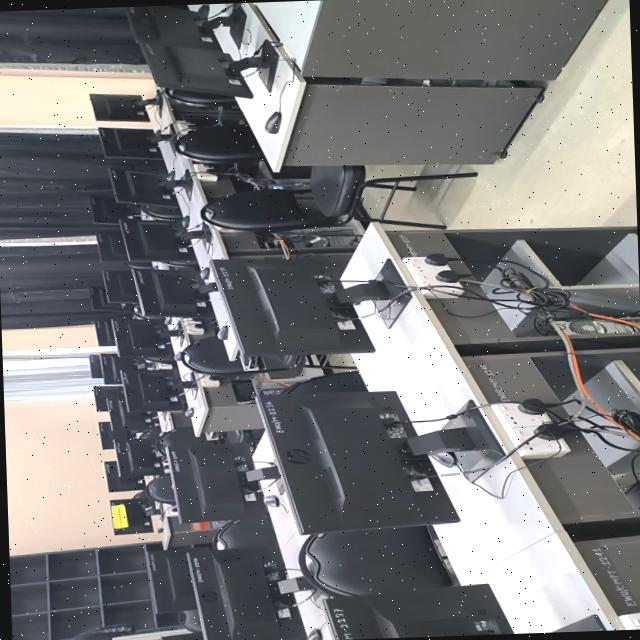Chair: (199, 165, 475, 233), (298, 526, 454, 596), (168, 124, 263, 164), (212, 514, 279, 562), (157, 426, 212, 475), (178, 336, 242, 378), (281, 371, 365, 394), (162, 88, 234, 107), (145, 473, 174, 505), (139, 204, 181, 220), (279, 166, 308, 178)
Cpu: (550, 318, 639, 335)
Monitor: (257, 389, 458, 535), (209, 258, 373, 357), (185, 548, 303, 640), (321, 584, 512, 640), (165, 427, 250, 523), (139, 41, 251, 98), (132, 268, 212, 318), (125, 5, 209, 47), (119, 219, 195, 265), (108, 168, 179, 216), (123, 369, 194, 411), (113, 319, 171, 362), (114, 434, 161, 477), (98, 127, 159, 158), (108, 394, 154, 431), (89, 94, 148, 121), (109, 499, 151, 534), (90, 196, 139, 224), (103, 461, 142, 492), (101, 270, 136, 304), (88, 287, 129, 312), (95, 230, 127, 261), (92, 386, 120, 411), (93, 319, 114, 346), (97, 421, 112, 449), (88, 354, 102, 378)
Mouse: (263, 111, 280, 133), (428, 453, 454, 467), (262, 495, 278, 507), (215, 325, 227, 340), (305, 629, 320, 640), (199, 267, 208, 280), (182, 408, 192, 417)
